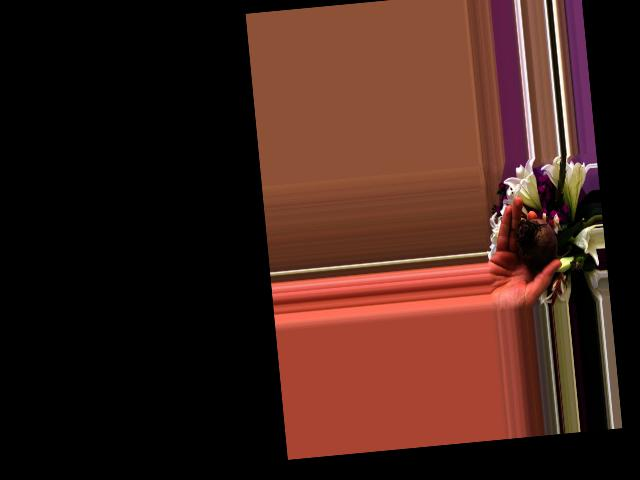beet: (514, 215, 572, 272)
